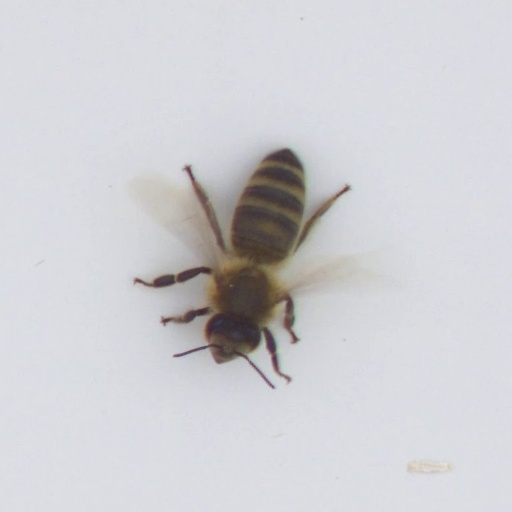Bee: (188, 128, 322, 382)
Thorax: (206, 259, 279, 323)
